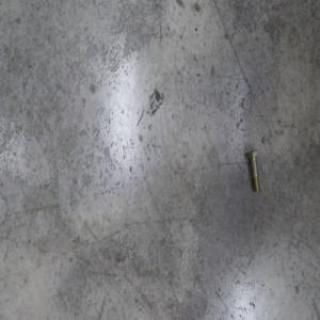Bolttrack_idkeyframe: (246, 147, 260, 192)
